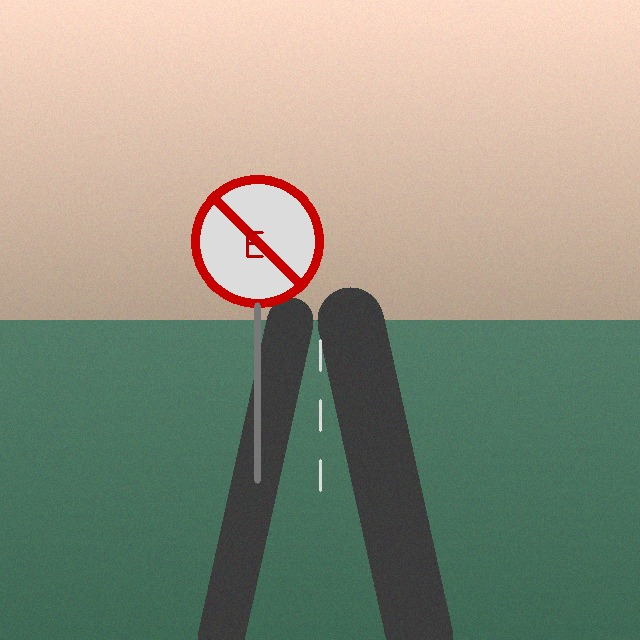no_estacionar: (193, 177, 321, 305)
